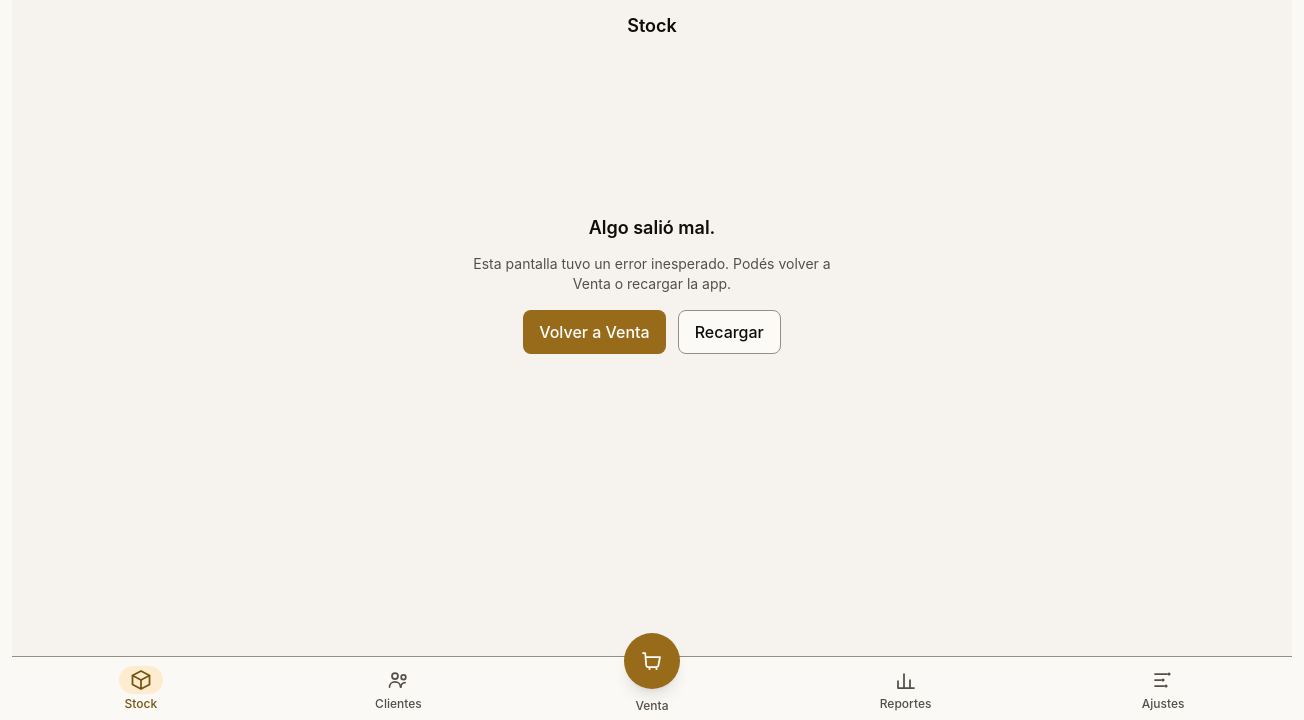
it: Shell › ErrorBoundaryRuta (hallazgo B1, review de Fase 2) › navegar a otra ruta (tocar un tab) sale del estado de error: se ve la pantalla nueva
The image size is (1304, 720).
Expected: the message is shown, [473, 217, 831, 354]
Click the button named "Venta": x=652, y=661 [624, 633, 680, 689]
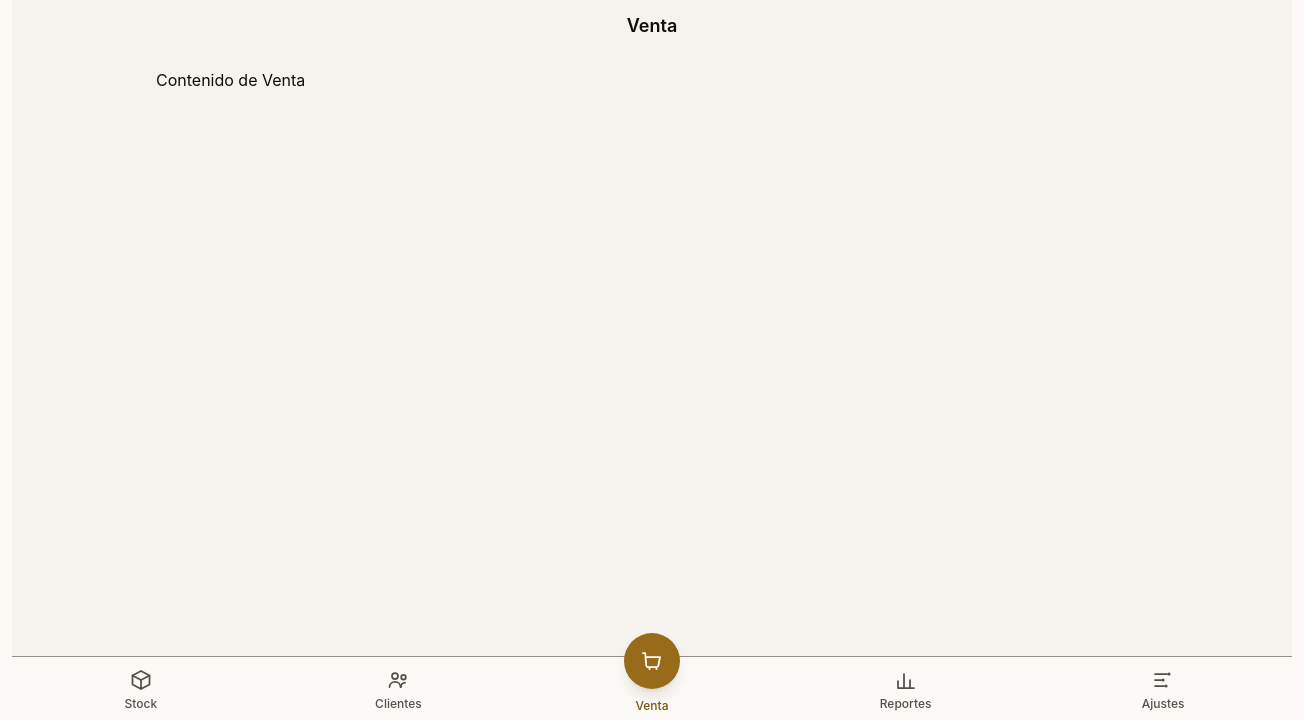
Expected: the text "Contenido de Venta" is shown, [156, 70, 305, 90]
Expected: the message is gone
